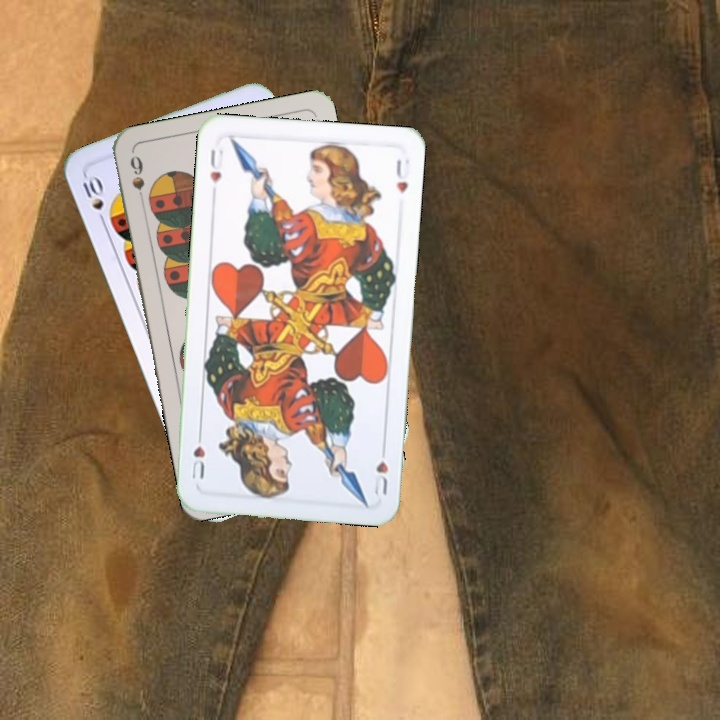HU: (370, 441, 391, 499), (206, 144, 226, 186)
S10: (78, 171, 109, 229)
S9: (126, 151, 148, 210)
